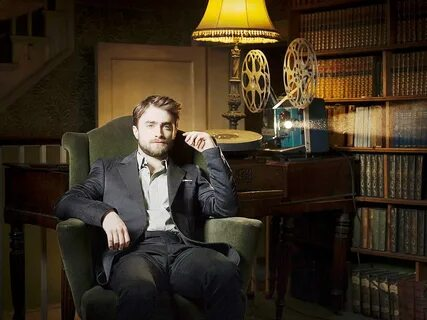awake: (88, 94, 240, 320)
